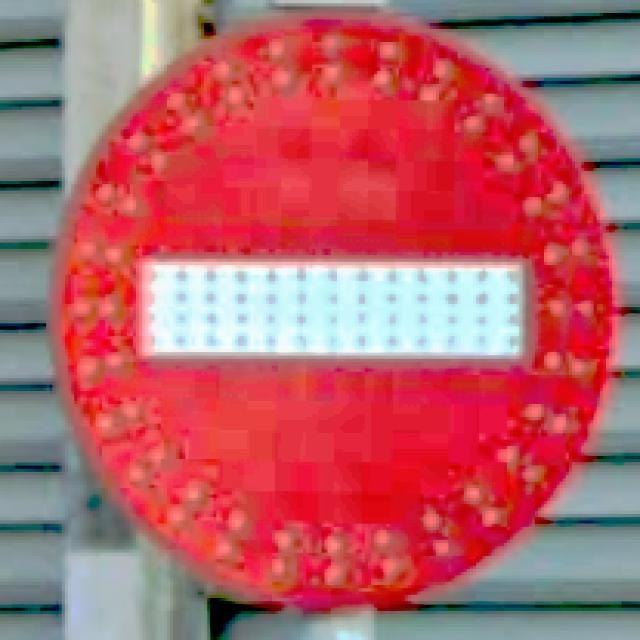noentry: (53, 17, 614, 609)
